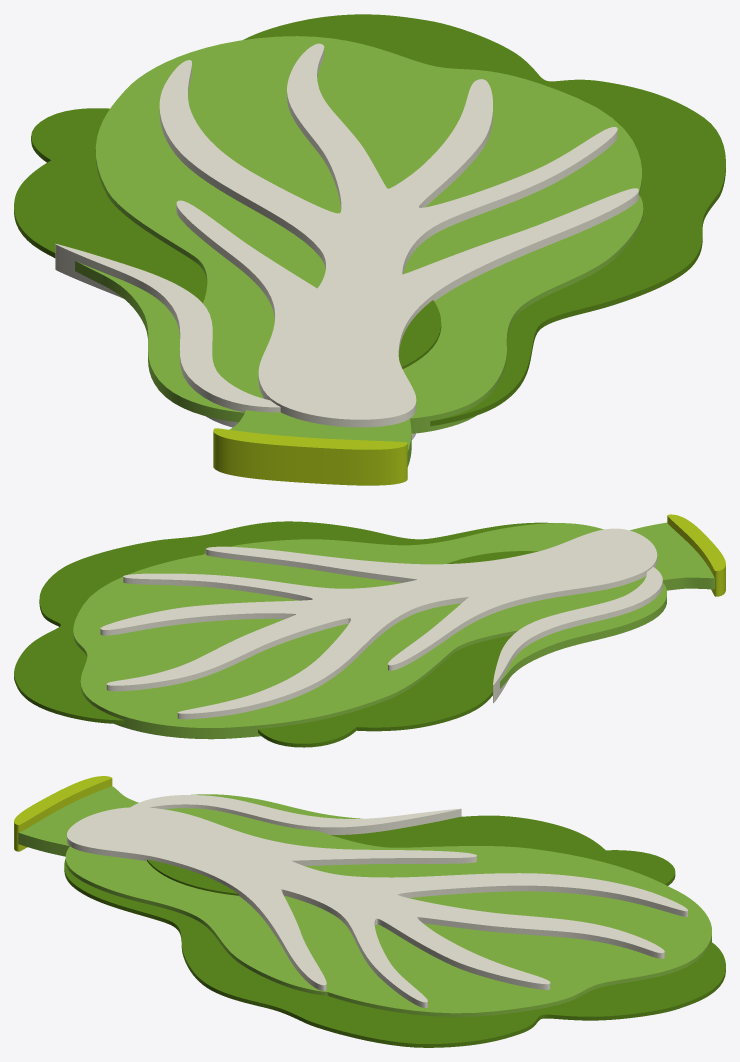
The model's file is emoji_u1f96c.glb.
3 views of the same model, one above another, from view 1: azimuth 30°, elevation 25°; view 2: azimuth 150°, elevation 25°; view 3: azimuth 270°, elevation 25° (orthographic). The views are drawn at different scales.
Visible parts, largest first — view 1: emoji_u1f96c; view 2: emoji_u1f96c; view 3: emoji_u1f96c.
Part boxes in pixels (x1,y1,x2,y2): emoji_u1f96c: [14, 14, 725, 485]; emoji_u1f96c: [14, 514, 725, 747]; emoji_u1f96c: [14, 776, 725, 1047].
Size of the model in its own units: 0.0288 by 0.0014 by 0.0338.
